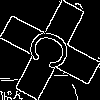C: (25, 25, 82, 79)
